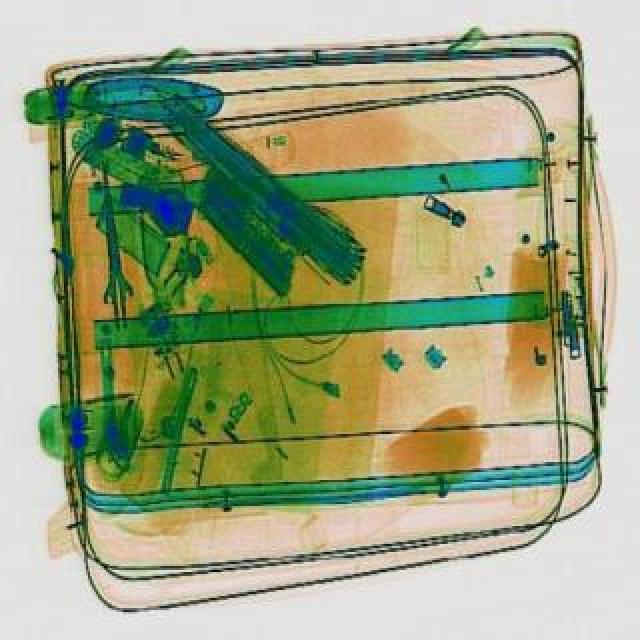knife: (90, 168, 142, 334)
